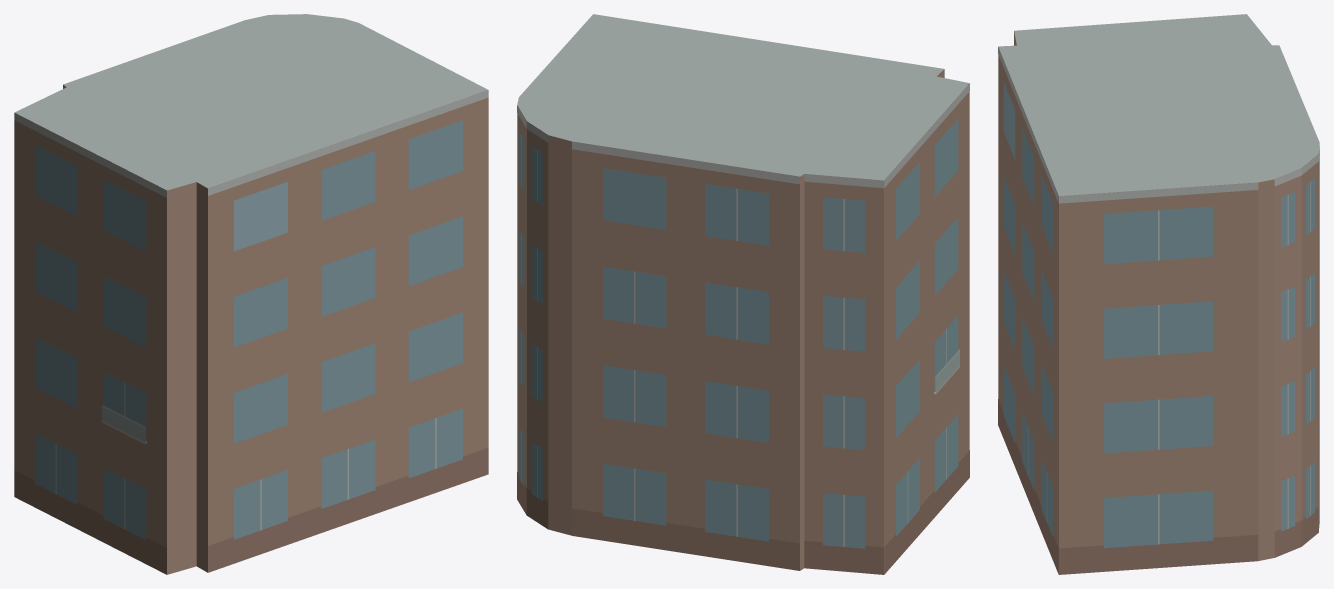
The model's file is survey-upis-32793917.glb.
3 views of the same model, side by side, from view 1: azimuth 30°, elevation 25°; view 2: azimuth 150°, elevation 25°; view 3: azimuth 270°, elevation 25° (orthographic). The views are drawn at different scales.
Visible parts, largest first — view 1: survey-upis-32793917.tmp; view 2: survey-upis-32793917.tmp; view 3: survey-upis-32793917.tmp.
Part boxes in pixels (x1,y1,x2,y2): survey-upis-32793917.tmp: (14, 14, 488, 574); survey-upis-32793917.tmp: (517, 14, 969, 574); survey-upis-32793917.tmp: (998, 14, 1319, 574).
Bounding box in the file's own units: 12.75 × 12.35 × 9.52.
